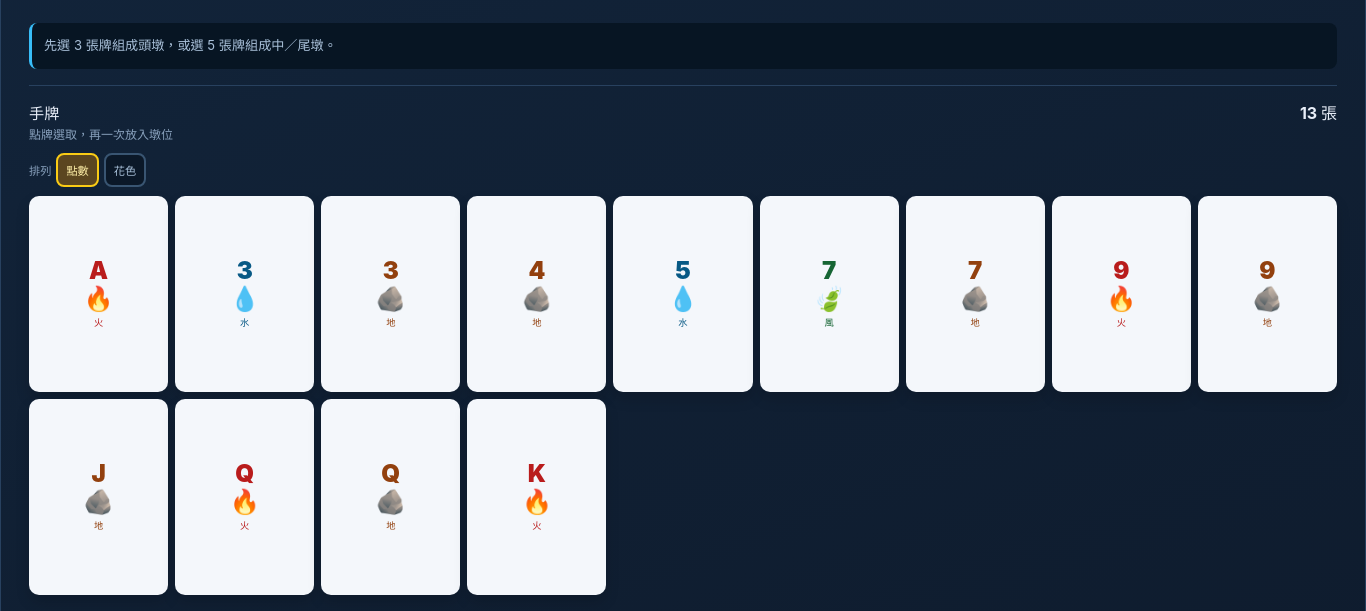
Test: P0BattleLab › places five selected cards into the middle or back lane at once
Click the button "A 🔥 火": click(99, 294) [29, 196, 168, 392]
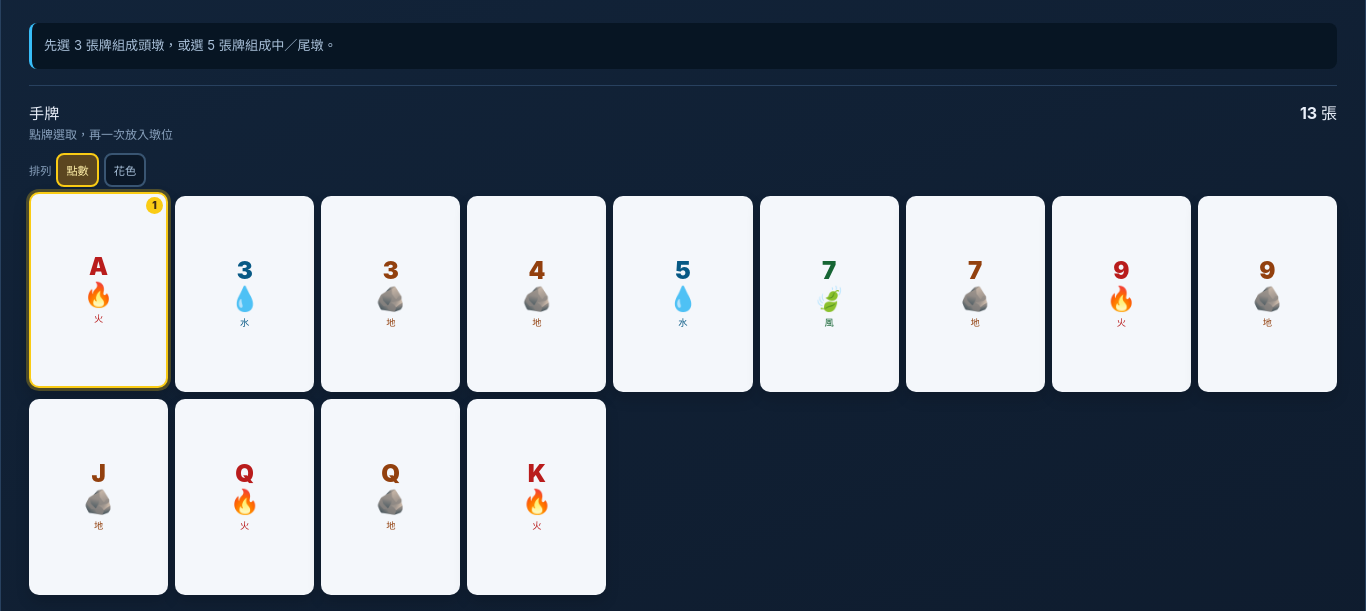
Click the button "3 💧 水": click(245, 294) [175, 196, 314, 392]
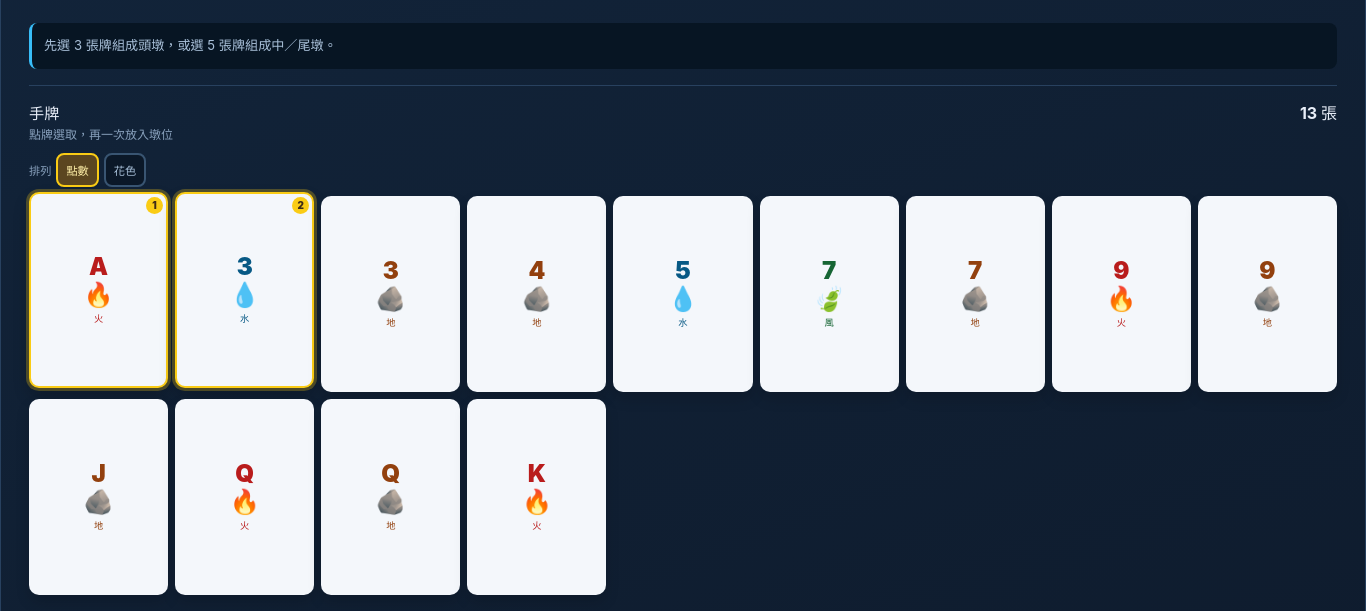
Click the button "3 🪨 地": click(391, 294) [321, 196, 460, 392]
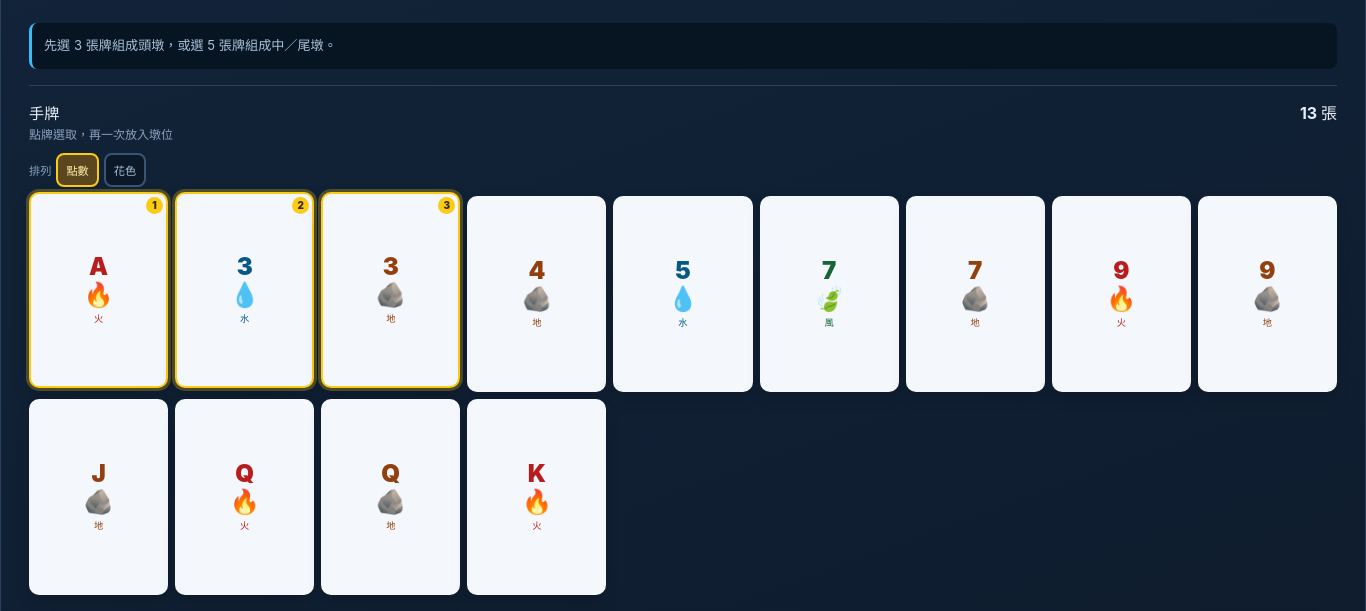
Click the button "4 🪨 地": click(537, 294) [467, 196, 606, 392]
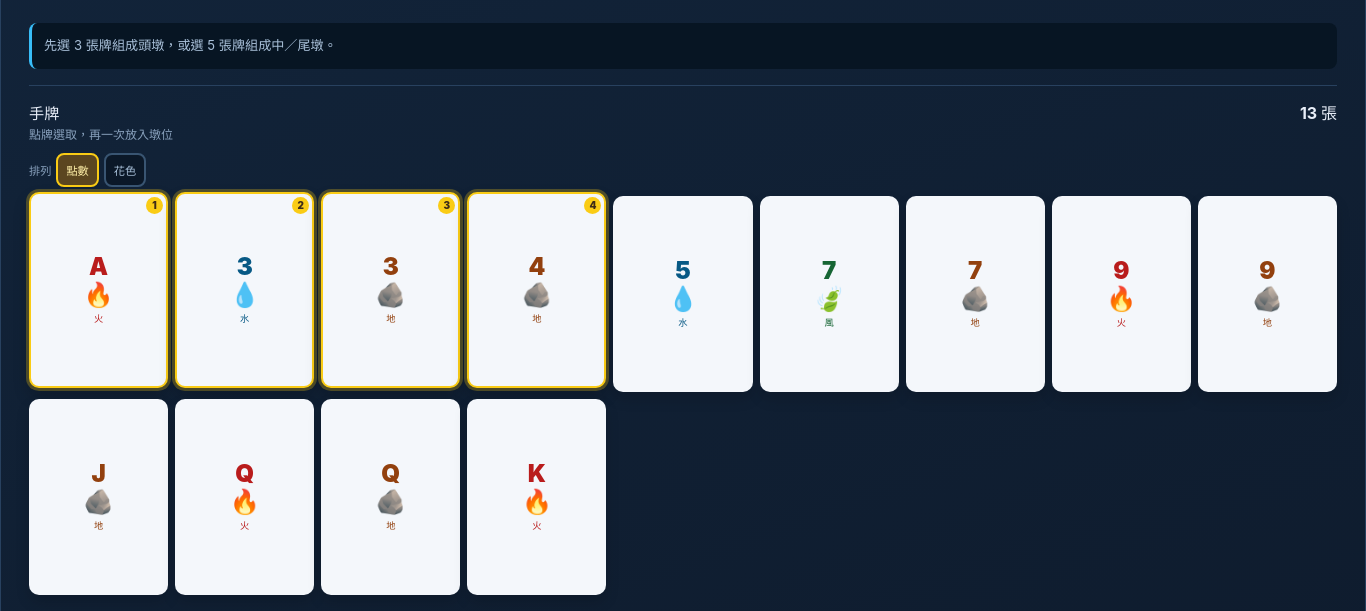
Click the button "5 💧 水": click(683, 294) [613, 196, 752, 392]
(page scrolled)
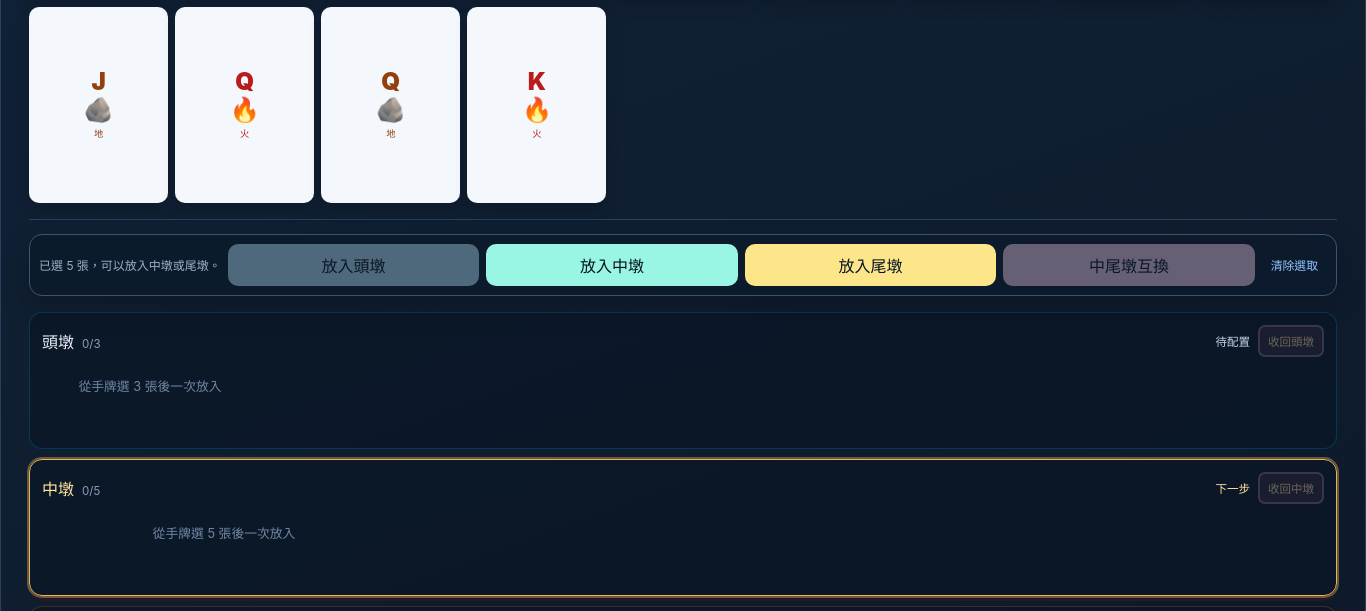
Check: the button "放入中墩" is enabled
Check: the button "放入尾墩" is enabled, box [745, 244, 996, 286]
Click the button "放入中墩": click(612, 265) [486, 244, 738, 286]
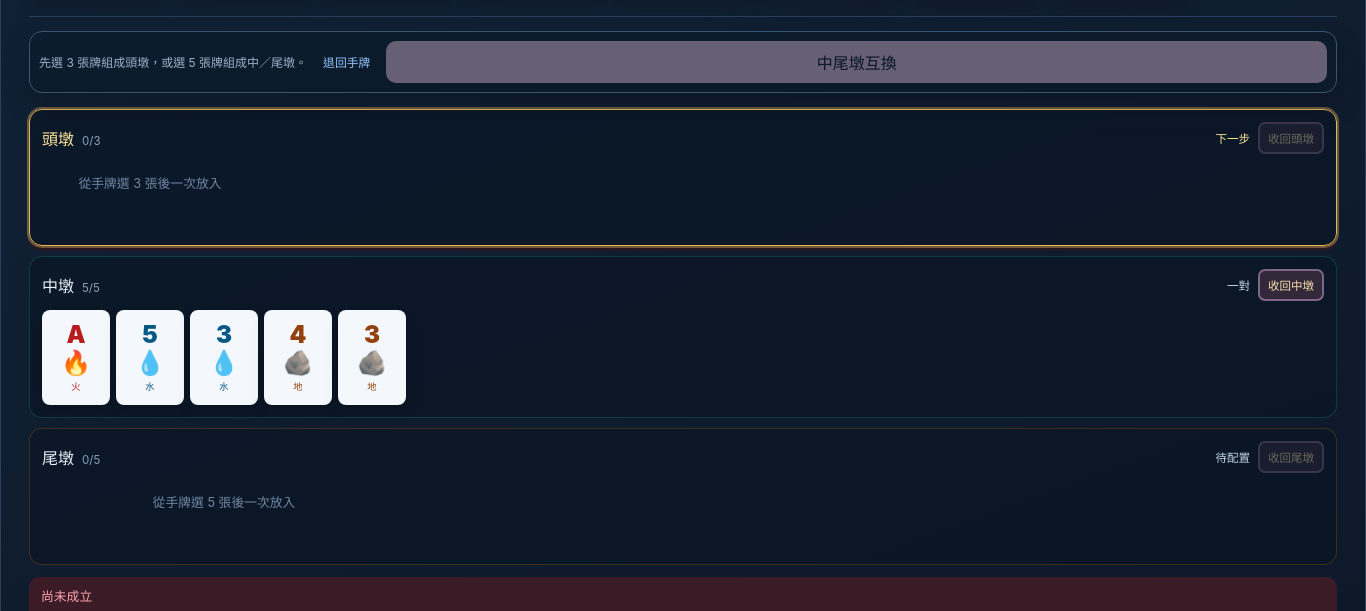
Check: the text "5/5" is shown, box [82, 281, 100, 295]
